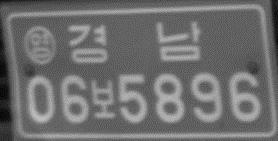0: (26, 74, 56, 124)
5: (116, 73, 148, 123)
6: (229, 70, 262, 121), (59, 73, 89, 125)
8: (152, 71, 187, 125)
9: (189, 72, 223, 123)
경남_D: (66, 18, 202, 64)
보: (89, 77, 116, 121)
영: (21, 24, 59, 66)
